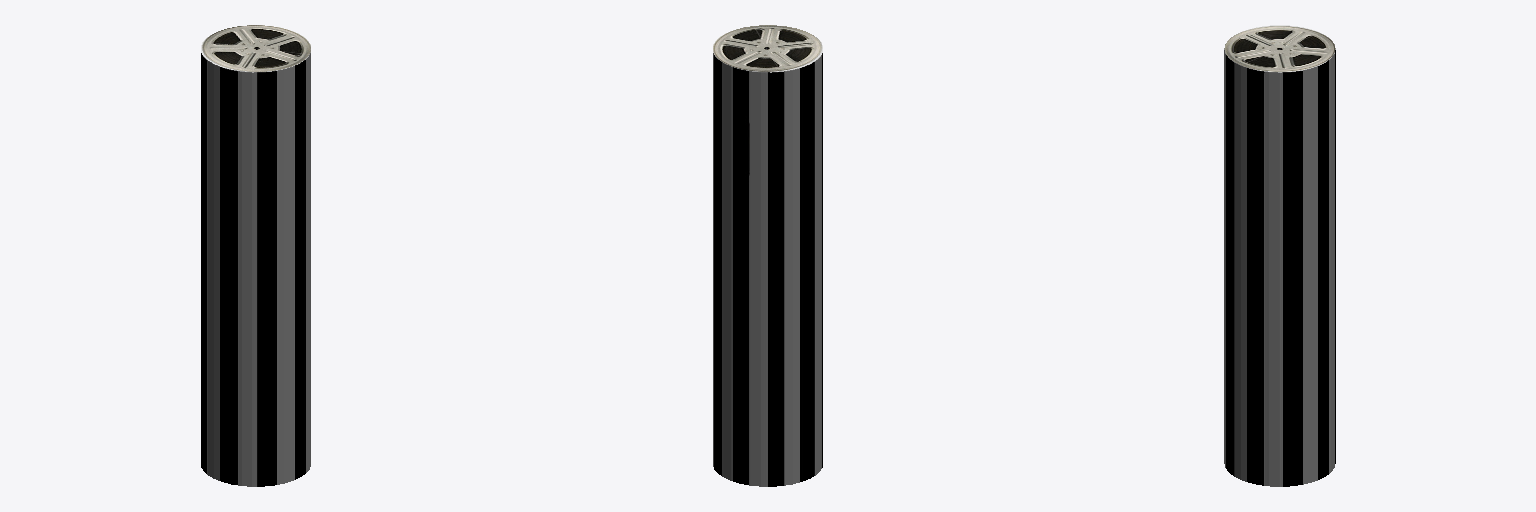
3 renders of one model, left to right at view 1: azimuth 30°, elevation 25°; view 2: azimuth 150°, elevation 25°; view 3: azimuth 270°, elevation 25°, orthographic.
Visible parts, largest first — view 1: Cylinder_Cylinder_Material.001; view 2: Cylinder_Cylinder_Material.001; view 3: Cylinder_Cylinder_Material.001.
Part boxes in pixels (x1,y1,x2,y2): Cylinder_Cylinder_Material.001: (201,25,310,486); Cylinder_Cylinder_Material.001: (713,25,822,486); Cylinder_Cylinder_Material.001: (1224,25,1335,486).
Bounding box in the file's own units: 2 × 8.23 × 2.
Materials: 1 (1 with a texture image).